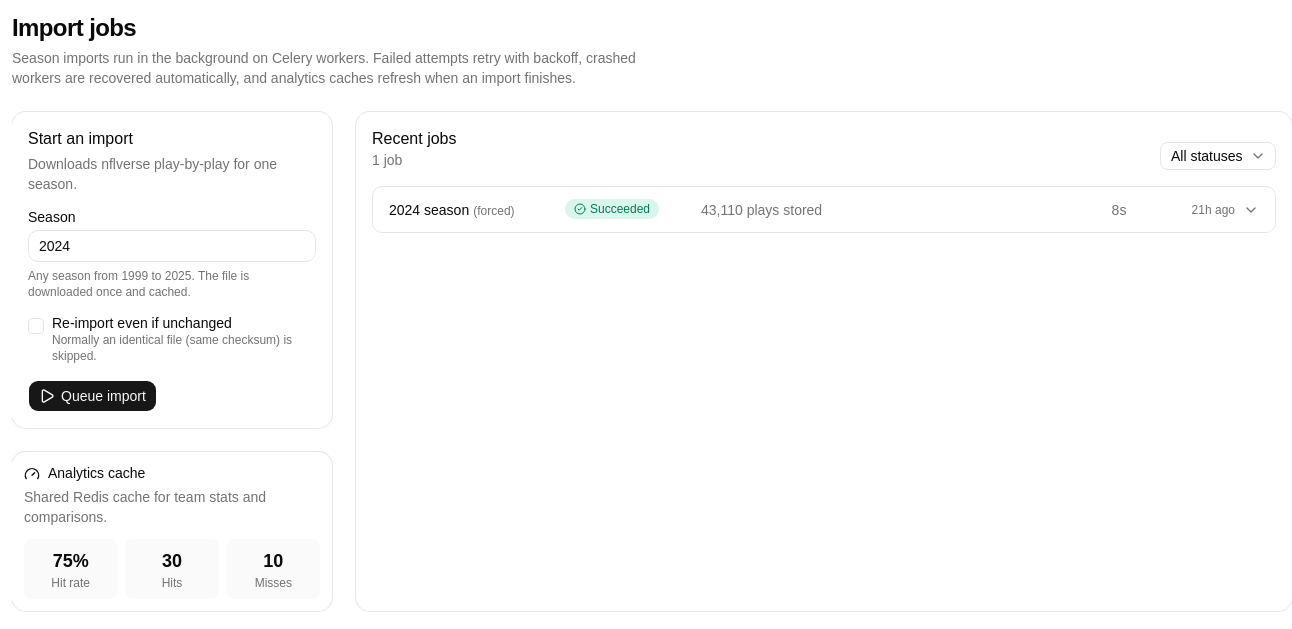
Test: JobsPage › lists a real finished import and expands its attempt history
The image size is (1292, 629).
Expected: the text "Succeeded" is shown, [565,199,659,219]
Expected: the text "43,110 plays stored" is shown, [701,202,822,218]
Click the button "2024 season(forced) Succeeded 43,110 plays stored 8s 21h ago" at (824, 210), box [373,187,1275,232]
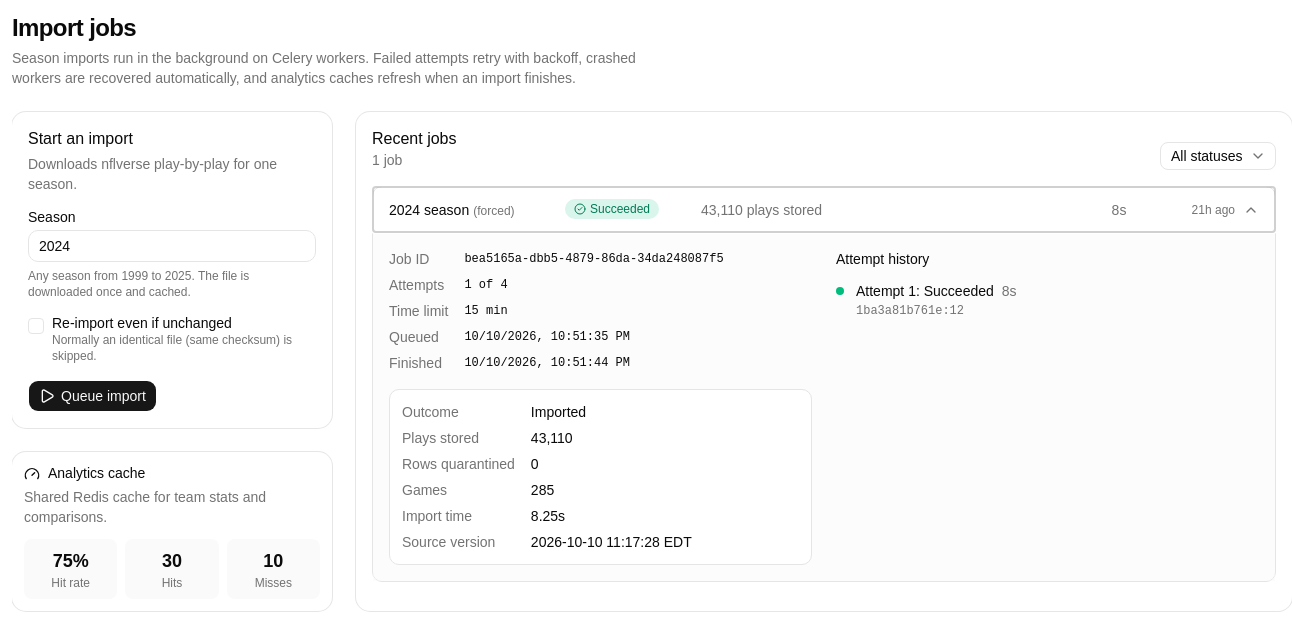
Now the text "Attempt 1: Succeeded" is shown, box [856,283,1017,299]
Now the text "285" is shown, box [531,482,554,498]
